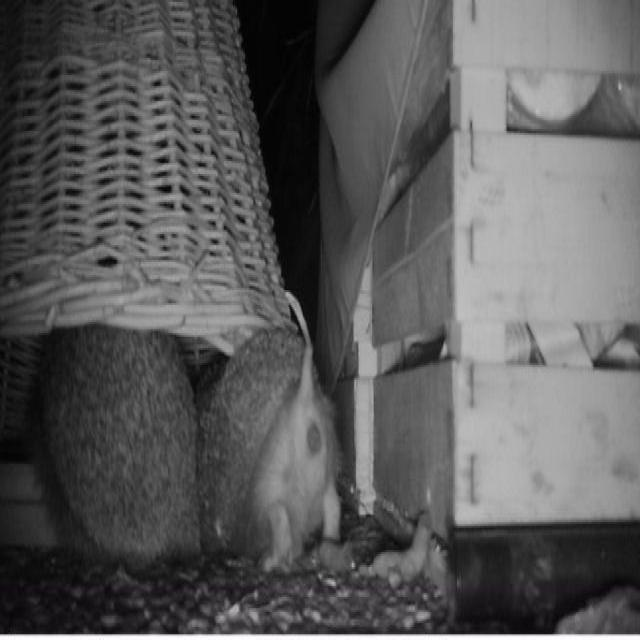Hedgehog: (203, 324, 346, 542)
